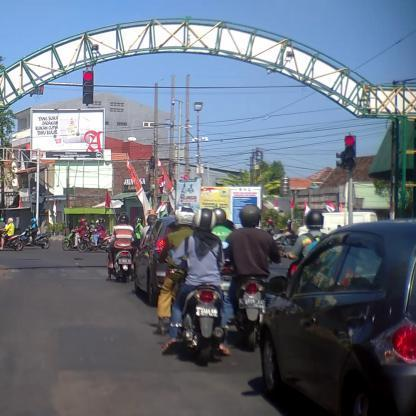red: (343, 136, 356, 171), (84, 72, 95, 106)
